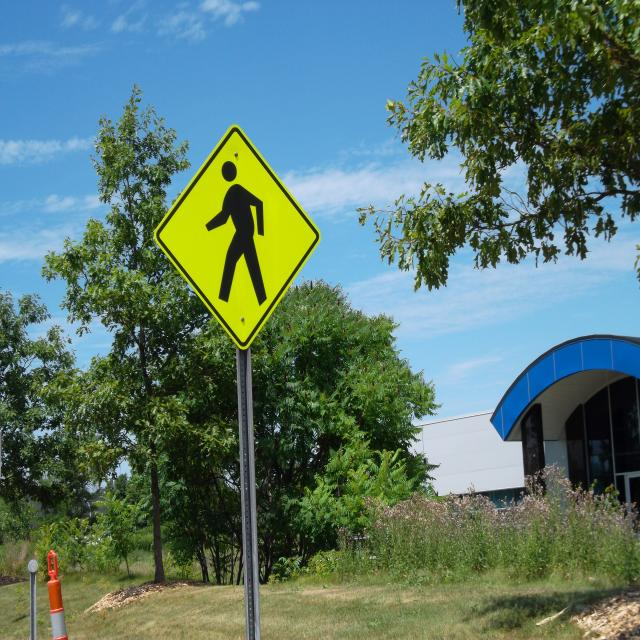warning: (153, 121, 322, 355)
